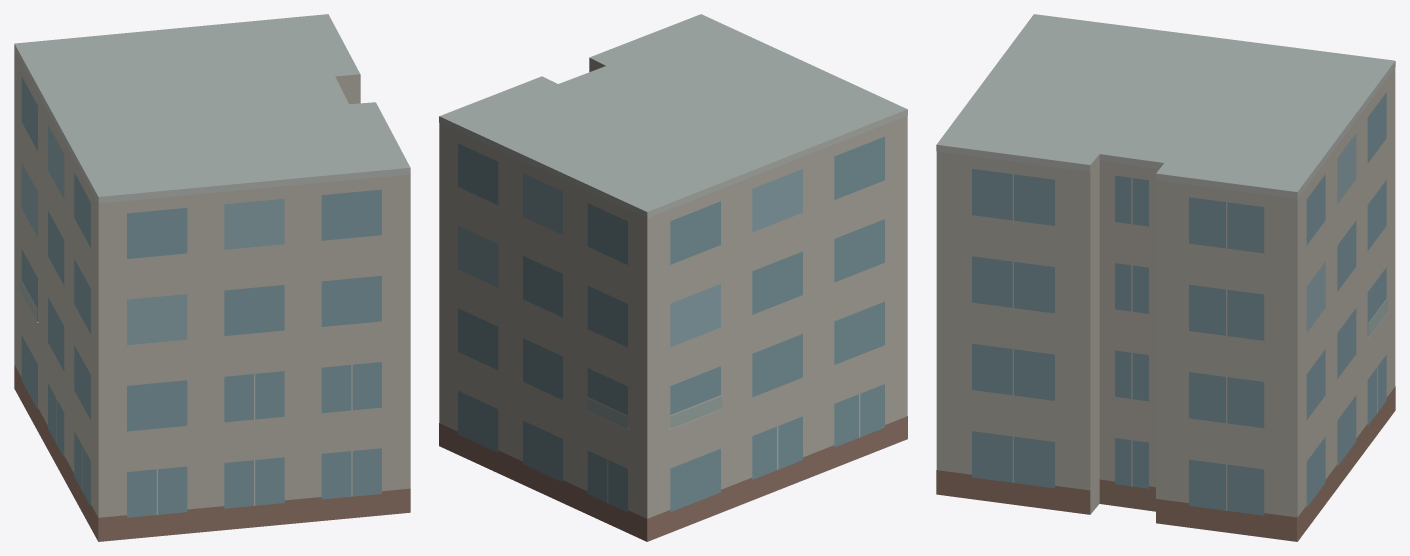
The model's file is survey-upis-32821758.glb.
3 renders of one model, left to right at view 1: azimuth 30°, elevation 25°; view 2: azimuth 150°, elevation 25°; view 3: azimuth 270°, elevation 25°, orthographic. The views are drawn at different scales.
Parts seen in each view (by area): view 1: survey-upis-32821758.tmp; view 2: survey-upis-32821758.tmp; view 3: survey-upis-32821758.tmp.
Boxes of the visible parts, box(x1,y1,x2,y2) form: survey-upis-32821758.tmp: box(14, 14, 410, 541); survey-upis-32821758.tmp: box(439, 14, 907, 541); survey-upis-32821758.tmp: box(936, 14, 1395, 541).
Size of the model in its own units: 14.04 by 12.85 by 15.3.
